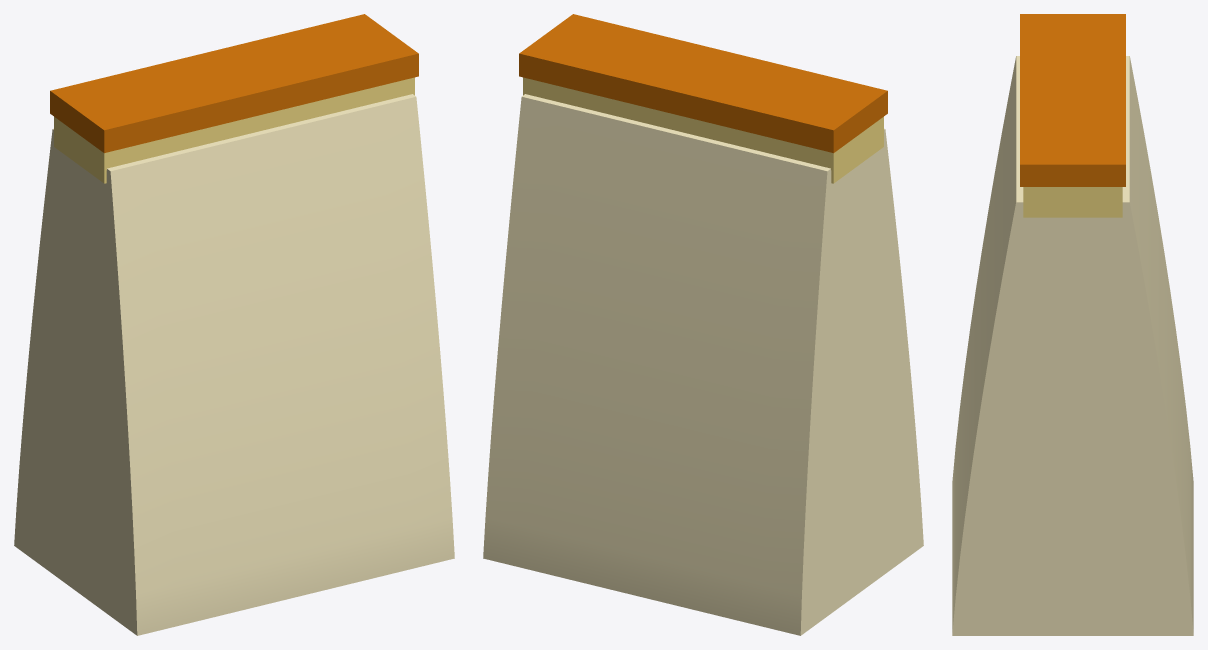
File: flour-bag.glb
3 views of the same model, side by side, from view 1: azimuth 30°, elevation 25°; view 2: azimuth 150°, elevation 25°; view 3: azimuth 270°, elevation 25° (orthographic).
Parts seen in each view (by area): view 1: Flour_Paper, Kraft_Tape_Seal, Flour_Fold_Top; view 2: Flour_Paper, Kraft_Tape_Seal, Flour_Fold_Top; view 3: Flour_Paper, Kraft_Tape_Seal, Flour_Fold_Top.
Part boxes in pixels (<box>): Flour_Paper: <box>14,94,454,635</box>; Kraft_Tape_Seal: <box>50,14,418,153</box>; Flour_Fold_Top: <box>54,77,414,183</box>; Flour_Paper: <box>483,94,923,635</box>; Kraft_Tape_Seal: <box>519,14,887,153</box>; Flour_Fold_Top: <box>523,77,883,183</box>; Flour_Paper: <box>952,56,1193,635</box>; Kraft_Tape_Seal: <box>1020,14,1125,186</box>; Flour_Fold_Top: <box>1023,187,1122,217</box>.
Bounding box in the file's own units: 0.1595 × 0.2303 × 0.1071.
